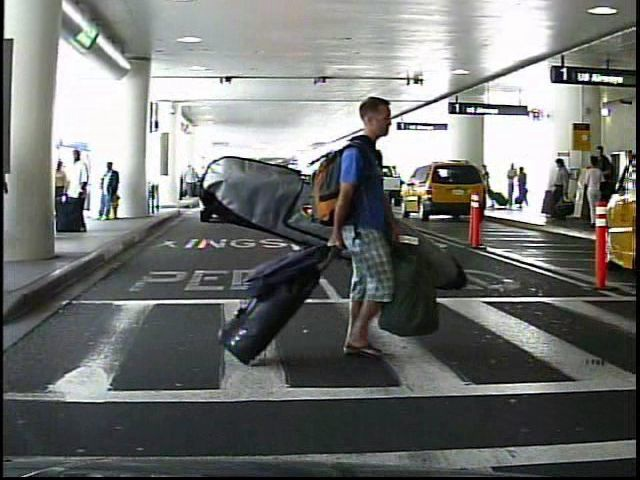person: (315, 87, 417, 372), (64, 146, 92, 235), (578, 155, 604, 228), (96, 161, 123, 227), (548, 157, 572, 224), (590, 143, 608, 221), (504, 162, 519, 209), (514, 163, 525, 207), (483, 161, 488, 209)
